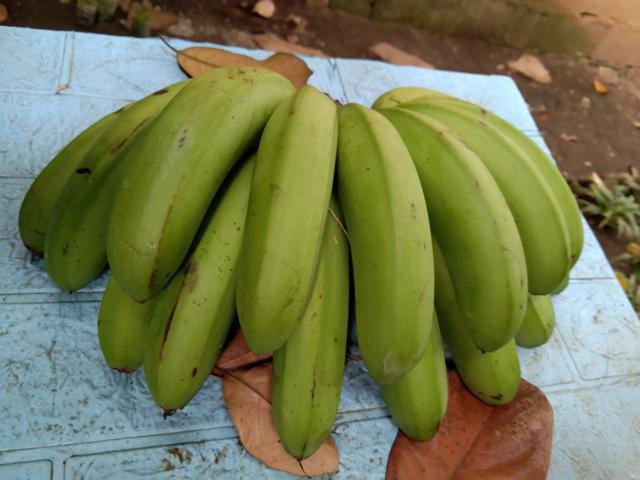freshunripe: (387, 104, 533, 360), (320, 95, 440, 383), (224, 79, 340, 359)
unripe: (94, 57, 268, 299), (35, 68, 163, 289), (137, 205, 253, 409)
